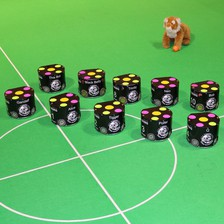ball: (171, 45, 178, 52)
robot: (3, 84, 37, 119), (49, 91, 83, 126), (92, 98, 125, 134), (141, 105, 173, 141), (186, 112, 218, 147), (188, 78, 219, 110), (76, 67, 106, 98), (36, 63, 67, 92), (150, 75, 179, 106), (112, 71, 140, 103)
